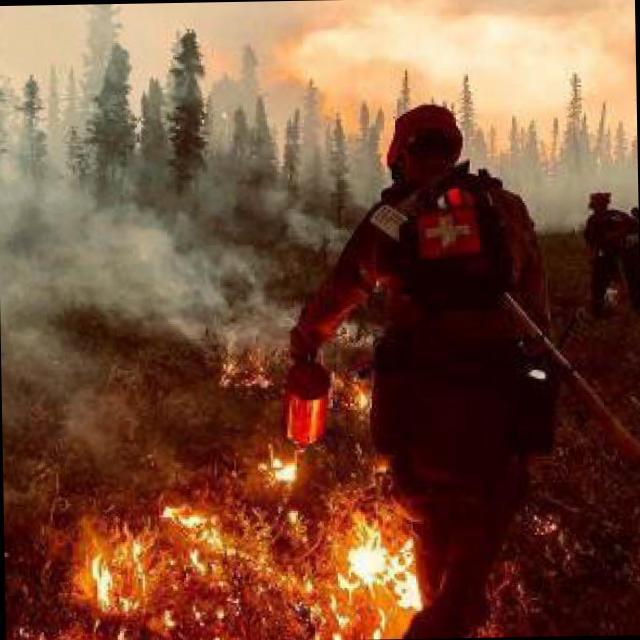fire: (310, 508, 430, 640), (160, 494, 227, 573), (76, 540, 142, 610), (157, 616, 268, 640), (50, 625, 143, 640), (347, 377, 372, 412), (268, 454, 299, 478)
smoke: (0, 148, 296, 431)
